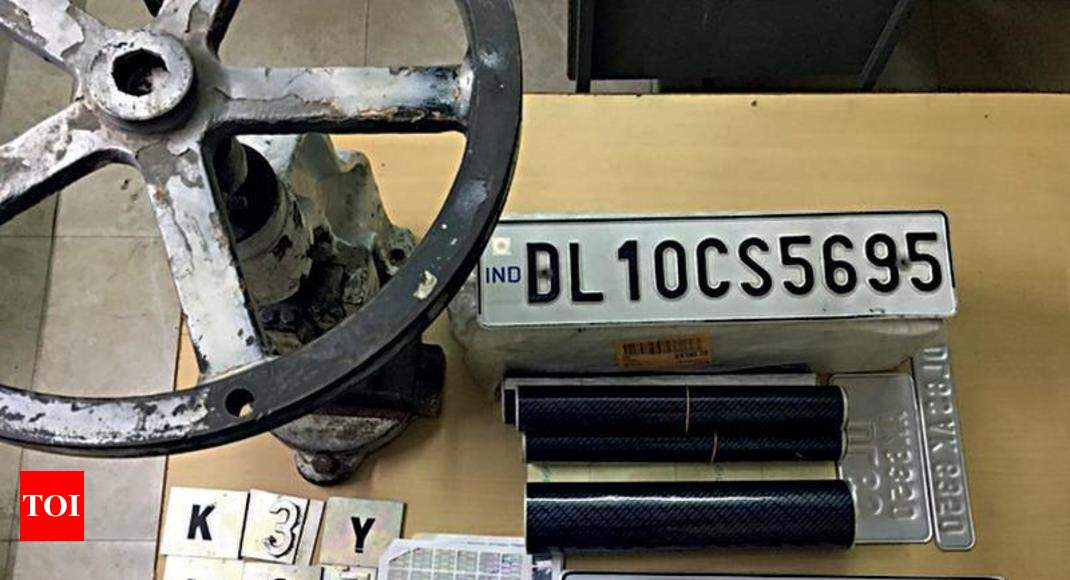number_plate: (481, 218, 965, 328)
